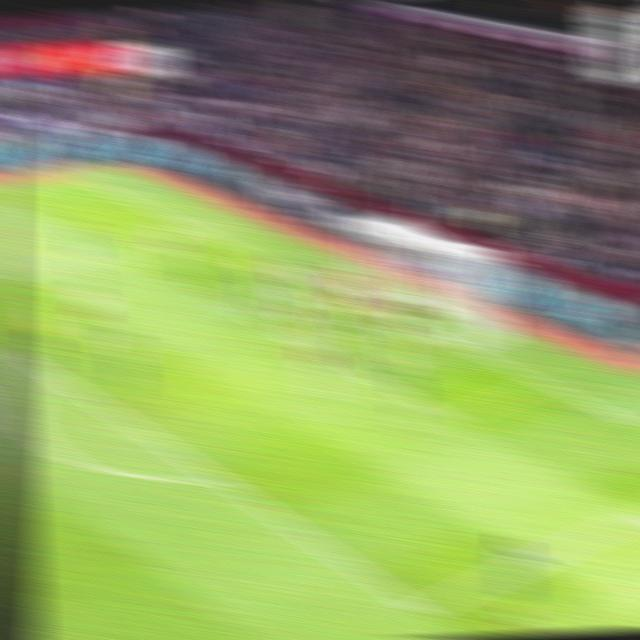bigarea_bottom_inner: (397, 590, 442, 630)
bigarea_top_outter: (175, 217, 210, 238)
bottom_arc_area_intersection: (198, 462, 240, 495)
corner: (55, 165, 94, 187)
smallarea_bottom_inner: (431, 397, 473, 433)
smallarea_bottom_outter: (523, 368, 563, 397)
smallarea_top_inner: (203, 289, 240, 316)
smallarea_top_outter: (287, 266, 321, 289)
top_arc_area_intersection: (24, 355, 62, 385)
